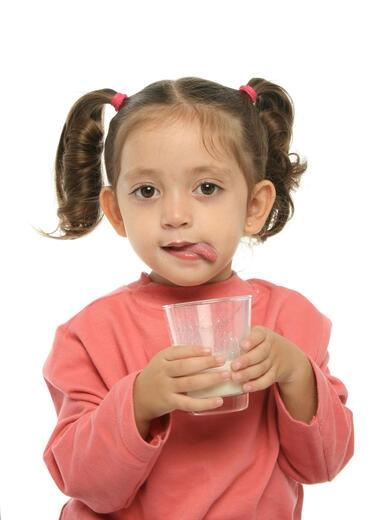Healthy: (77, 82, 294, 300)
